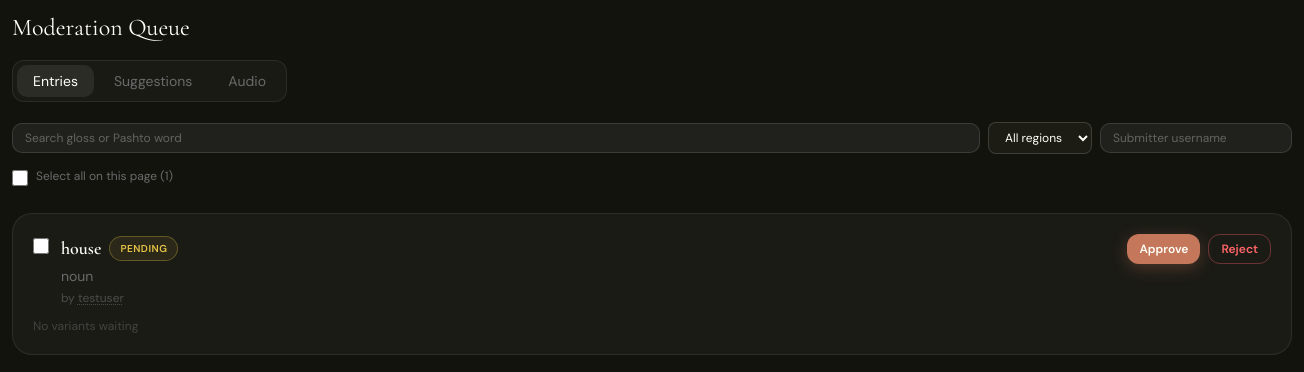
Grouped queue — concept rows with variant dropdowns › approving a pending concept PATCHes the concept status and refetches
Click the button "Approve": click(1164, 249) x1=1128 y1=234 x2=1200 y2=264
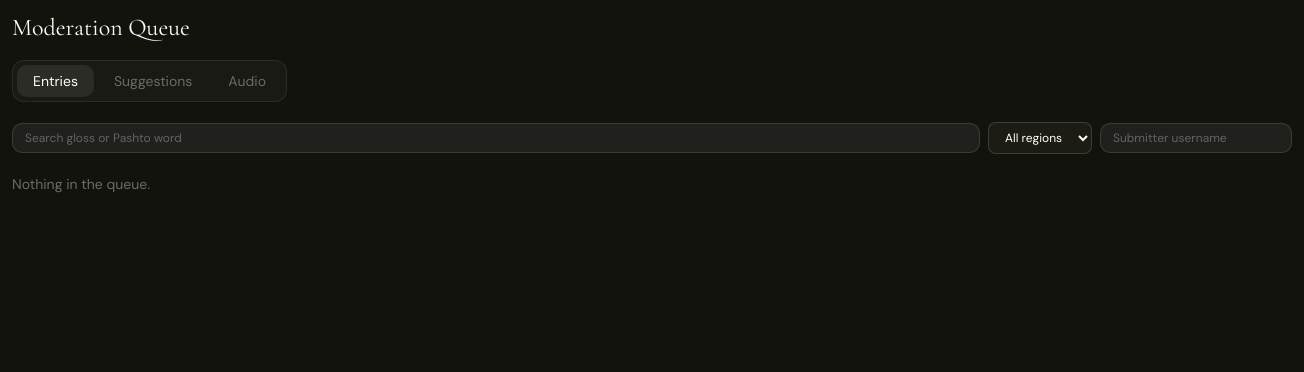
Result: the text "Nothing in the queue." is shown at x1=12 y1=175 x2=150 y2=193
